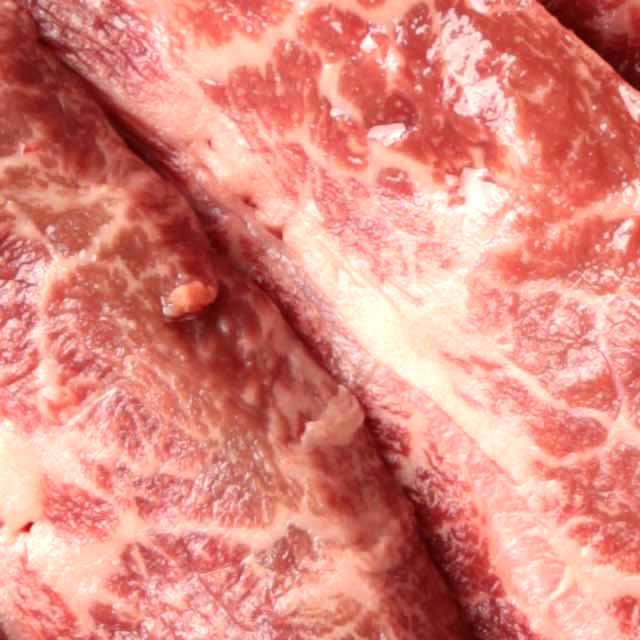beef: (0, 270, 451, 640)
